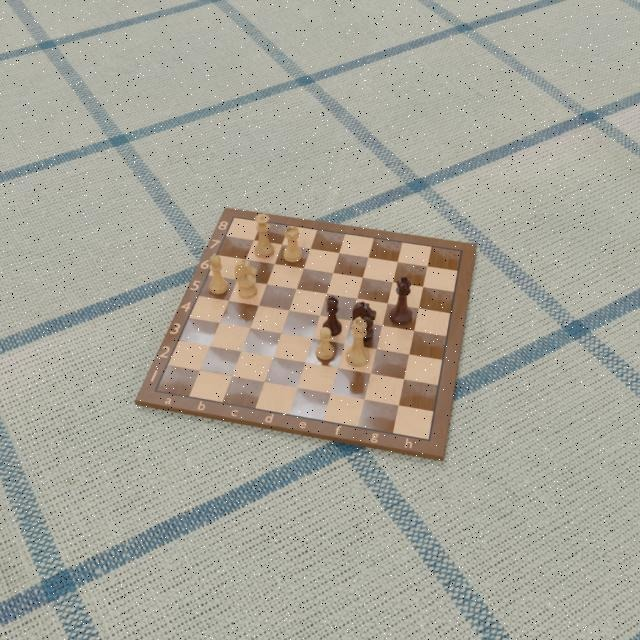black-bishop: (322, 292, 342, 339)
black-king: (388, 273, 415, 324)
black-knight: (350, 300, 378, 343)
white-bishop: (207, 251, 230, 297)
white-king: (343, 314, 370, 369)
white-knight: (233, 258, 258, 302)
white-queen: (253, 211, 275, 260)
white-rook: (281, 223, 303, 264), (315, 325, 335, 363)
